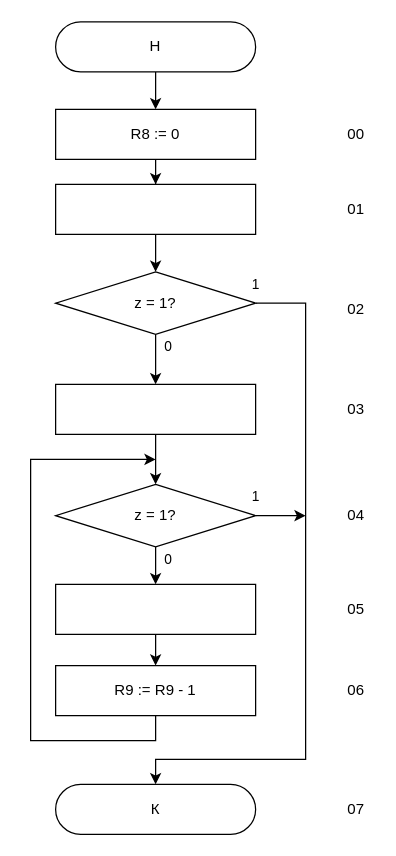
The diagram is 396 pixels wide and 856 high, and some of its shapes have lost their labels. The centre of each missing label's shape, as x and y in pixels:
"R0 := D" belongs at point 155,208.
"R8 := R8 + R0" belongs at point 155,608.
"R9 := D" belongs at point 155,408.
